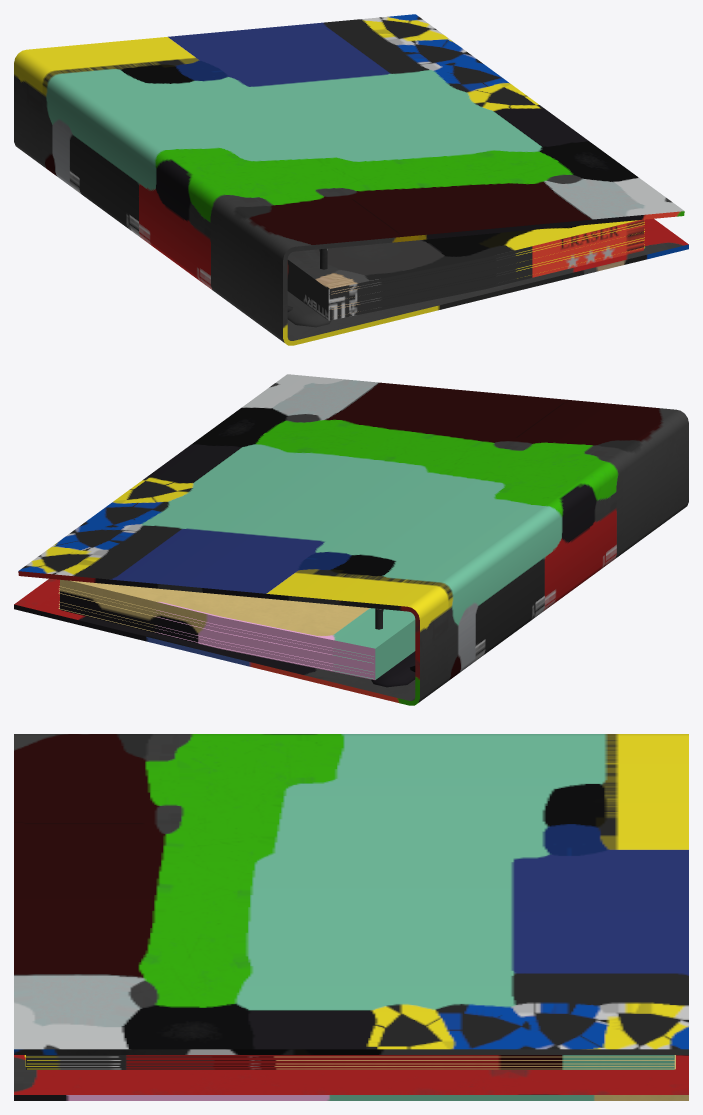
Rendered from FolderClose.FBX.
The picture shows the model from 3 angles, top to bottom: view 1: azimuth 30°, elevation 25°; view 2: azimuth 150°, elevation 25°; view 3: azimuth 270°, elevation 25°; orthographic projection. The views are drawn at different scales.
Visible parts, largest first — view 1: FolderClose_LOD0; view 2: FolderClose_LOD0; view 3: FolderClose_LOD0.
Boxes of the visible parts, x1=… form: FolderClose_LOD0: x1=14, y1=14, x2=688, y2=345; FolderClose_LOD0: x1=14, y1=374, x2=688, y2=705; FolderClose_LOD0: x1=14, y1=734, x2=688, y2=1100.
Size of what is drawn, in the model's own units: 26.91 by 6.24 by 30.9.
